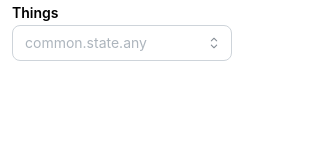
FilterMultiSelect › search folds accents (the theme-level foldedOptionsFilter)
This screenshot has width=332, height=160.
Type "zolw" into the dropdown labelled "Things" at (111, 42), box [25, 31, 197, 54]
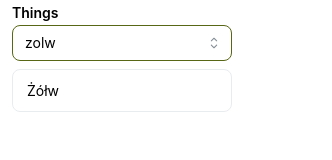
Check: the option "Żółw" is shown, box [27, 82, 59, 99]
Check: the option "Alpha" is gone
